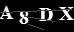8: (18, 10, 30, 25)
A: (1, 4, 15, 20)
D: (38, 7, 54, 23)
X: (58, 5, 74, 21)
